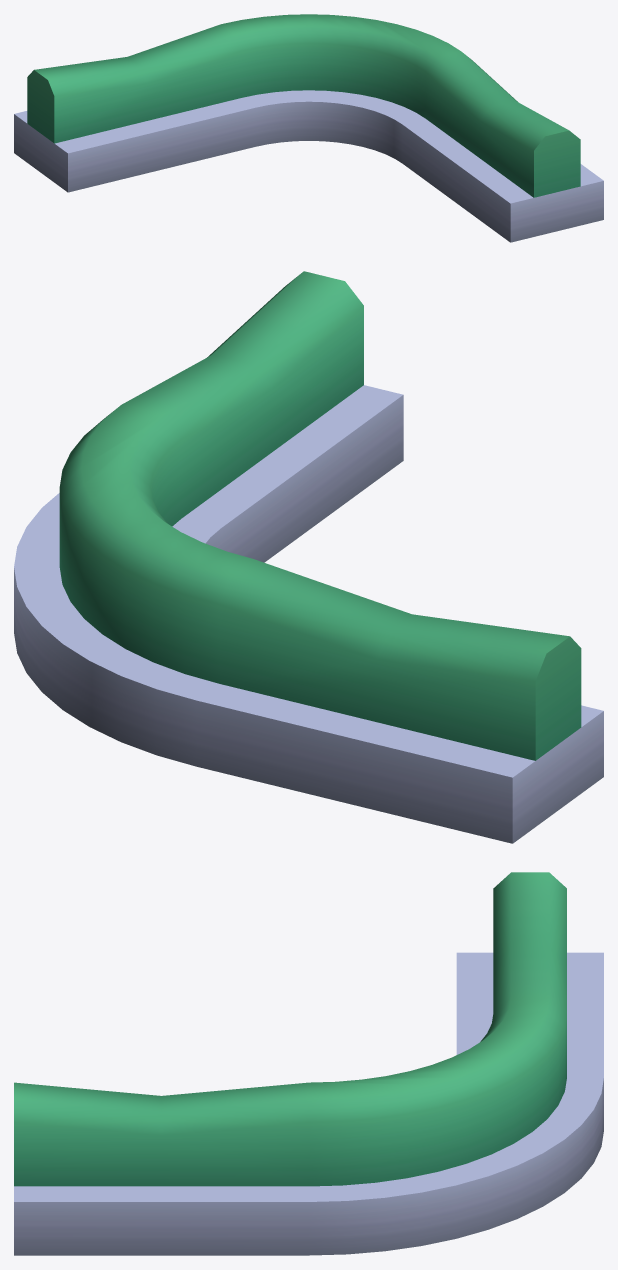
Rendered from k-fantasy-town-hedge-curved.glb.
The picture shows the model from 3 angles, top to bottom: view 1: azimuth 30°, elevation 25°; view 2: azimuth 150°, elevation 25°; view 3: azimuth 270°, elevation 25°; orthographic projection. The views are drawn at different scales.
Parts seen in each view (by area): view 1: hedge-curved; view 2: hedge-curved; view 3: hedge-curved.
Part boxes in pixels (x1,y1,x2,y2): hedge-curved: [14, 14, 603, 242]; hedge-curved: [14, 271, 603, 843]; hedge-curved: [14, 872, 603, 1255].
Size of the model in its own units: 1 by 0.25 by 1.
Materials: 1 (1 with a texture image).
